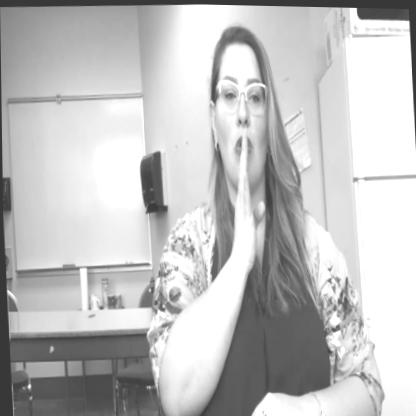Talk: (133, 15, 386, 416)
